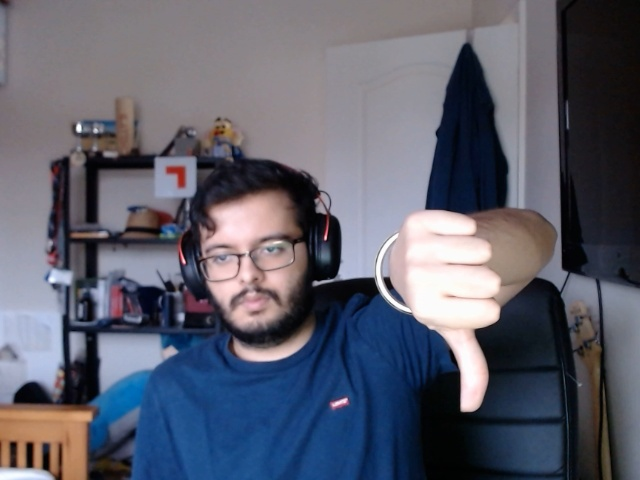Thumbs down: (387, 198, 505, 436)
